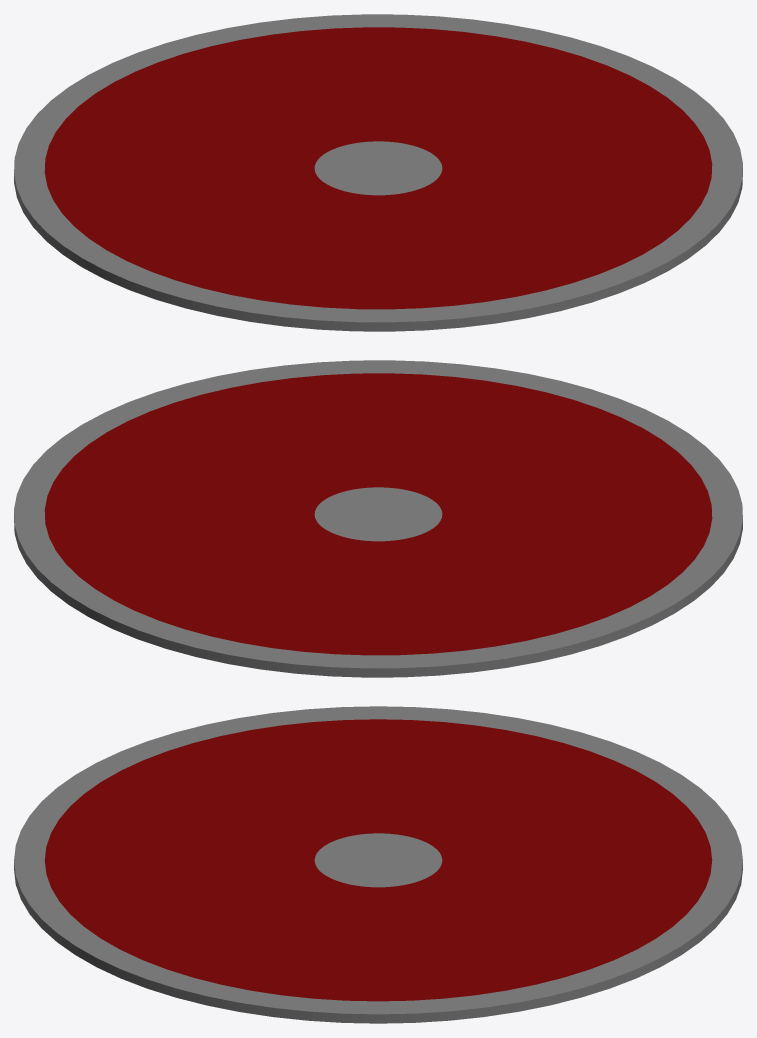
File: ST_Arena.fbx
3 renders of one model, top to bottom at view 1: azimuth 30°, elevation 25°; view 2: azimuth 150°, elevation 25°; view 3: azimuth 270°, elevation 25°, orthographic.
Visible parts, largest first — view 1: ST_Arena; view 2: ST_Arena; view 3: ST_Arena.
Boxes of the visible parts, bbox=[...] form: ST_Arena: bbox=[14, 14, 742, 331]; ST_Arena: bbox=[14, 360, 742, 677]; ST_Arena: bbox=[14, 706, 742, 1023].
Bounding box in the file's own units: 13000 × 183 × 13000.
